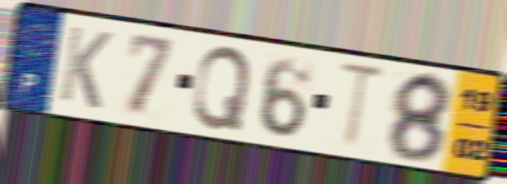6: (258, 55, 314, 140)
7: (125, 31, 175, 120)
8: (387, 69, 456, 165)
K: (55, 22, 115, 113)
Q: (190, 43, 254, 133)
T: (336, 58, 391, 154)
